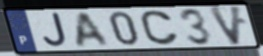0: (107, 10, 142, 47)
3: (178, 7, 214, 47)
A: (75, 10, 112, 48)
C: (139, 9, 181, 46)
J: (42, 12, 69, 49)
V: (206, 5, 244, 48)
